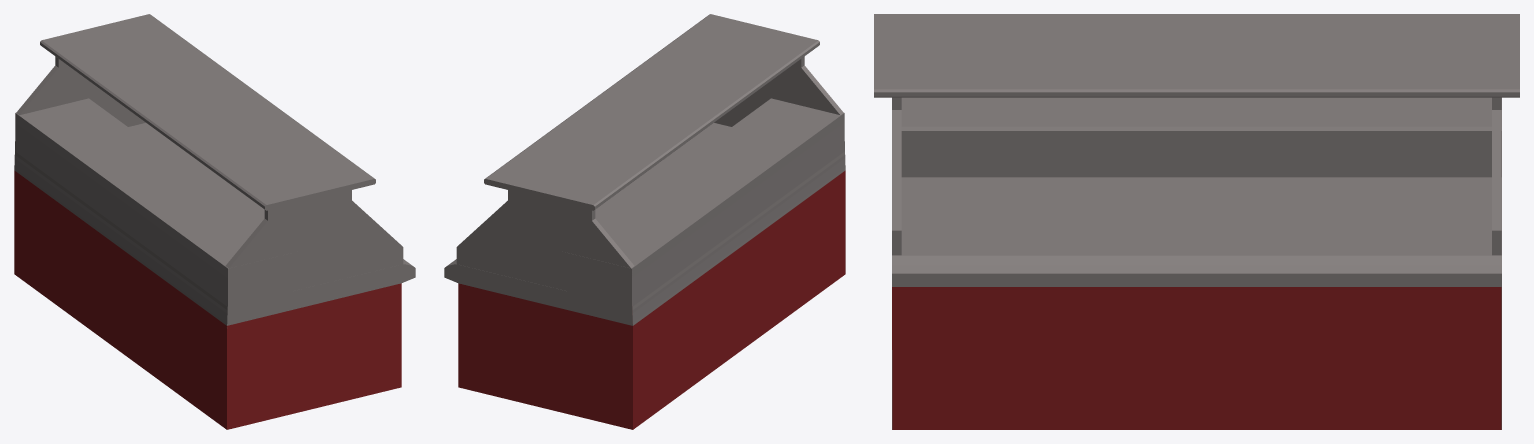
The model's file is mostrador carne y fiambre sin col.glb.
3 views of the same model, side by side, from view 1: azimuth 30°, elevation 25°; view 2: azimuth 150°, elevation 25°; view 3: azimuth 270°, elevation 25° (orthographic). The views are drawn at different scales.
Parts seen in each view (by area): view 1: mostrador; view 2: mostrador; view 3: mostrador.
Boxes of the visible parts, x1,y1,x2,y2 form: mostrador: [14, 14, 415, 429]; mostrador: [444, 14, 845, 429]; mostrador: [874, 14, 1519, 429].
Size of the model in its own units: 3.87 by 4.34 by 8.01.
1 material, 1 textured.
